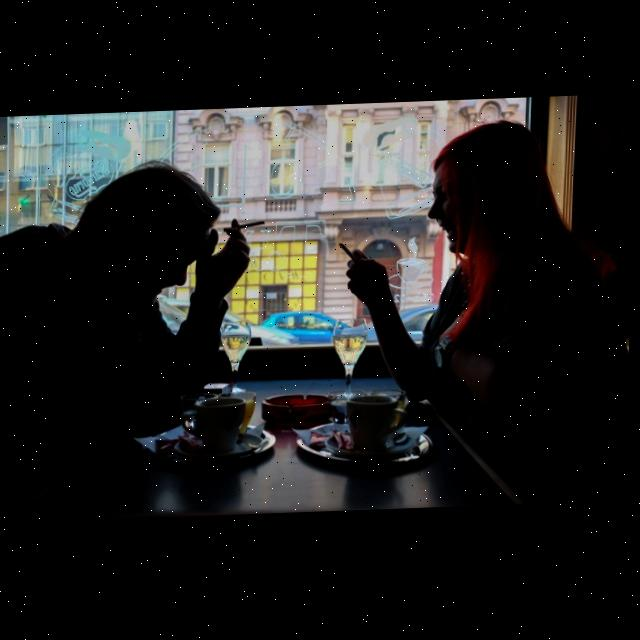cigarette: (225, 221, 266, 232), (341, 245, 359, 264)
